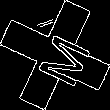M_NW: (22, 23, 88, 87)
